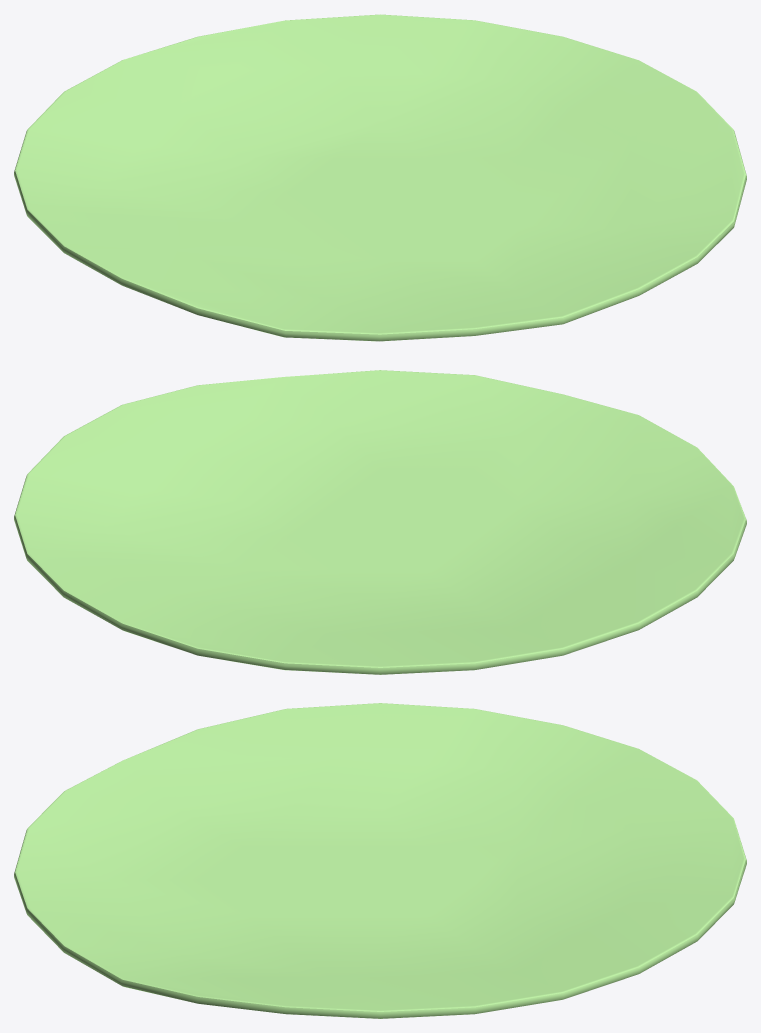
The model's file is Pepperoni.fbx.
3 renders of one model, top to bottom at view 1: azimuth 30°, elevation 25°; view 2: azimuth 150°, elevation 25°; view 3: azimuth 270°, elevation 25°, orthographic.
Parts seen in each view (by area): view 1: pepperoni; view 2: pepperoni; view 3: pepperoni.
Boxes of the visible parts, x1=… form: pepperoni: x1=14, y1=14, x2=746, y2=341; pepperoni: x1=14, y1=370, x2=746, y2=674; pepperoni: x1=14, y1=703, x2=746, y2=1018.
Size of the model in its own units: 0.1002 by 0.00475 by 0.1002.
